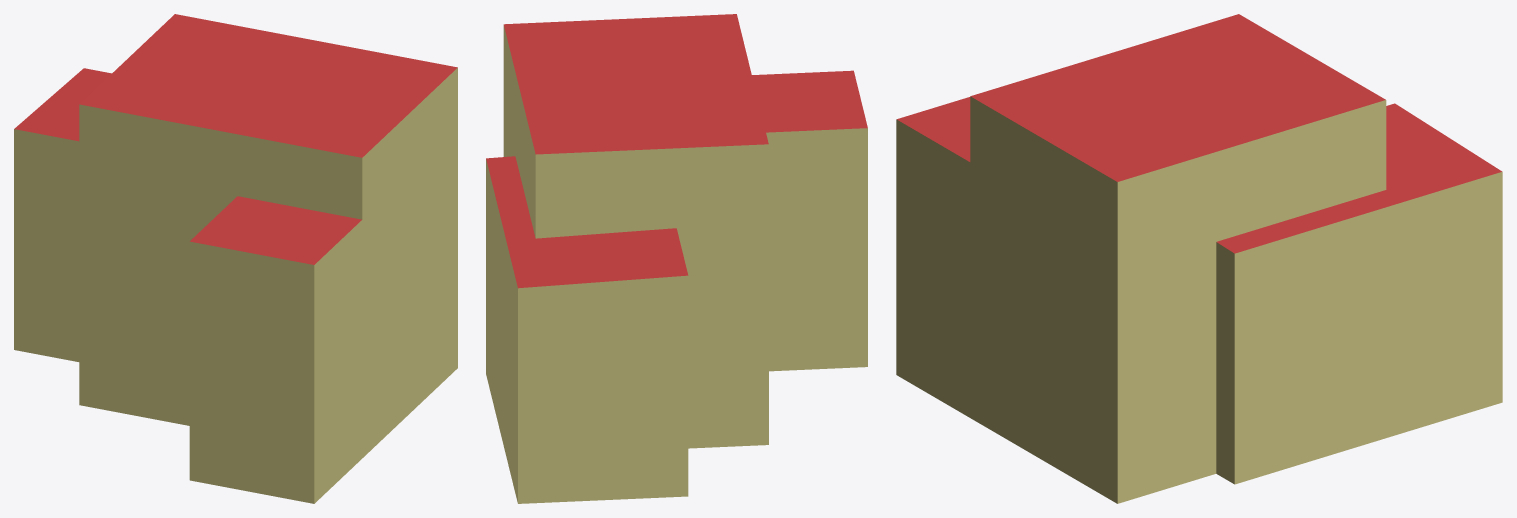
3 views of the same model, side by side, from view 1: azimuth 30°, elevation 25°; view 2: azimuth 150°, elevation 25°; view 3: azimuth 270°, elevation 25° (orthographic). The views are drawn at different scales.
Bounding box in the file's own units: 12.98 × 19.78 × 11.59.
